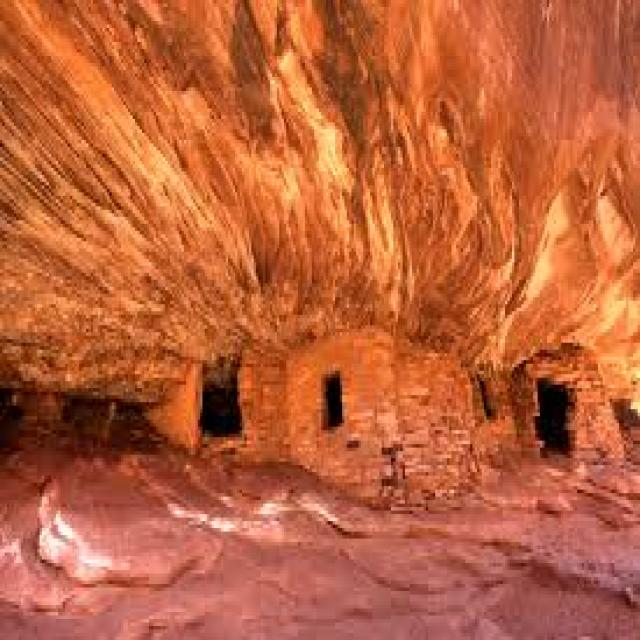Fire: (0, 0, 637, 408)
